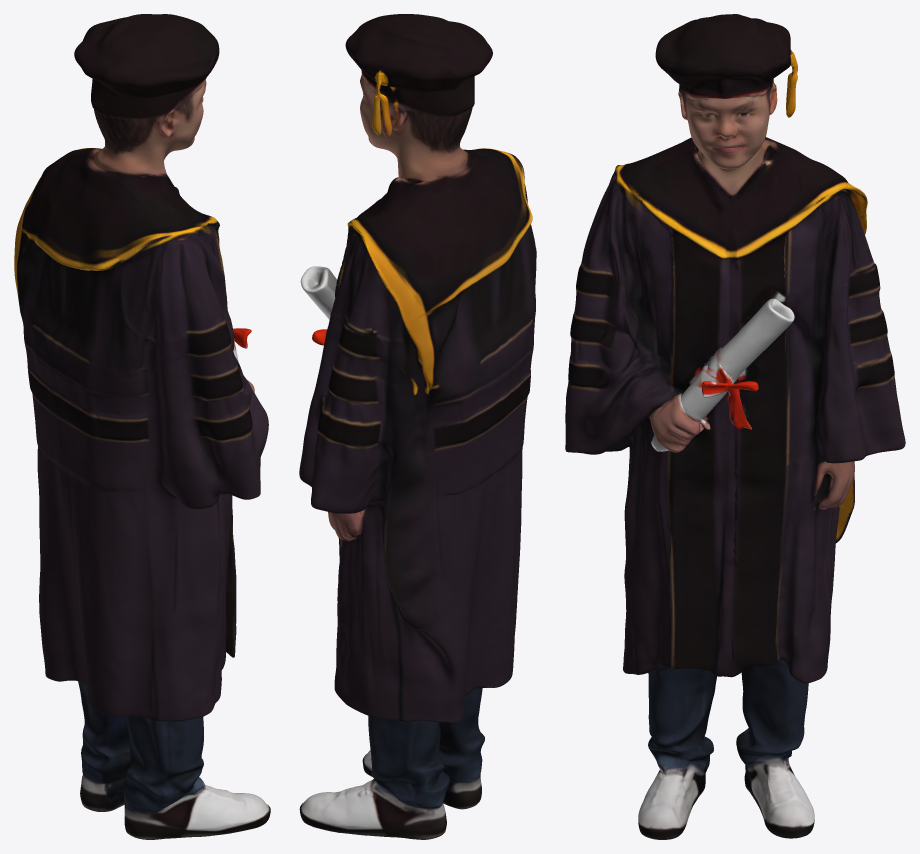
The model's file is SirModel.glb.
3 renders of one model, left to right at view 1: azimuth 30°, elevation 25°; view 2: azimuth 150°, elevation 25°; view 3: azimuth 270°, elevation 25°, orthographic.
Visible parts, largest first — view 1: tripo_node_eeee22d0-fb98-41f6-bfb9-236d414c6a04; view 2: tripo_node_eeee22d0-fb98-41f6-bfb9-236d414c6a04; view 3: tripo_node_eeee22d0-fb98-41f6-bfb9-236d414c6a04.
Boxes of the visible parts, x1,y1,x2,y2 form: tripo_node_eeee22d0-fb98-41f6-bfb9-236d414c6a04: [14, 14, 270, 839]; tripo_node_eeee22d0-fb98-41f6-bfb9-236d414c6a04: [299, 14, 536, 839]; tripo_node_eeee22d0-fb98-41f6-bfb9-236d414c6a04: [565, 14, 905, 839].
Size of the model in its own units: 0.2482 by 1 by 0.3971.
1 material, 1 textured.
